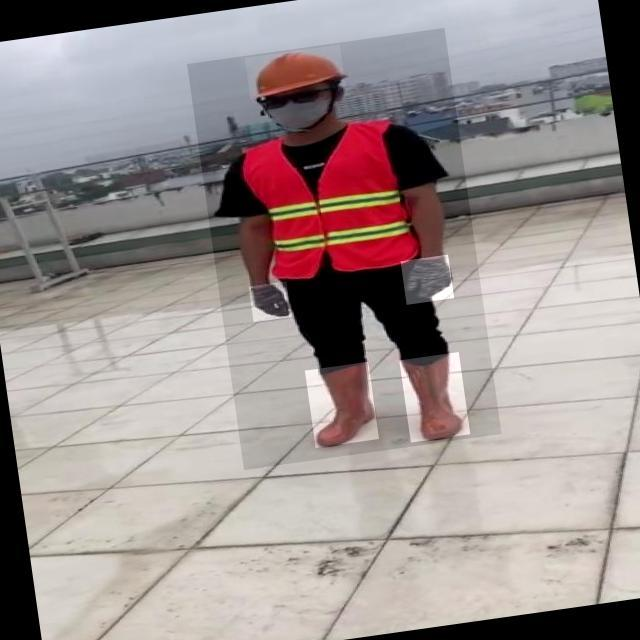Gloves: (401, 255, 455, 305), (249, 282, 292, 323)
Helmet: (245, 45, 346, 100)
Human: (187, 28, 502, 470)
Safety Boot: (400, 352, 471, 443), (306, 362, 380, 448)
Safety Vest: (239, 117, 424, 288)
